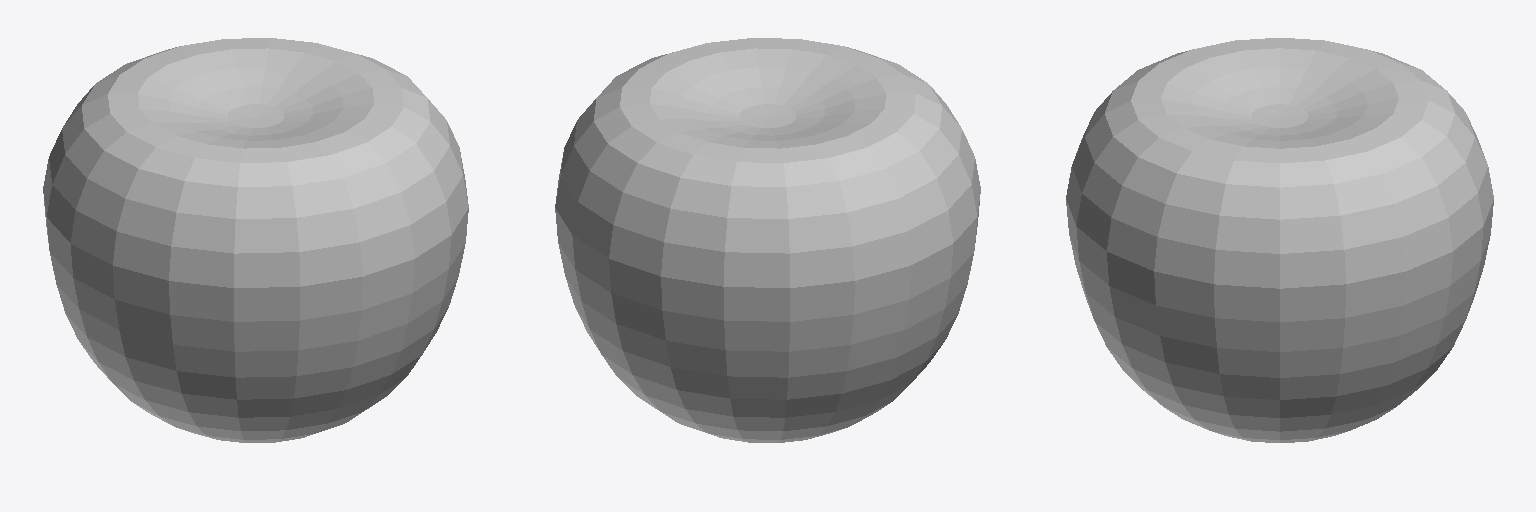
File: apple.obj
3 renders of one model, left to right at view 1: azimuth 30°, elevation 25°; view 2: azimuth 150°, elevation 25°; view 3: azimuth 270°, elevation 25°, orthographic.
Parts seen in each view (by area): view 1: pSphere1; view 2: pSphere1; view 3: pSphere1.
Boxes of the visible parts, x1,y1,x2,y2 form: pSphere1: [43, 38, 468, 442]; pSphere1: [555, 38, 980, 442]; pSphere1: [1066, 38, 1493, 442].
Size of the model in its own units: 2.35 by 1.9 by 2.35.